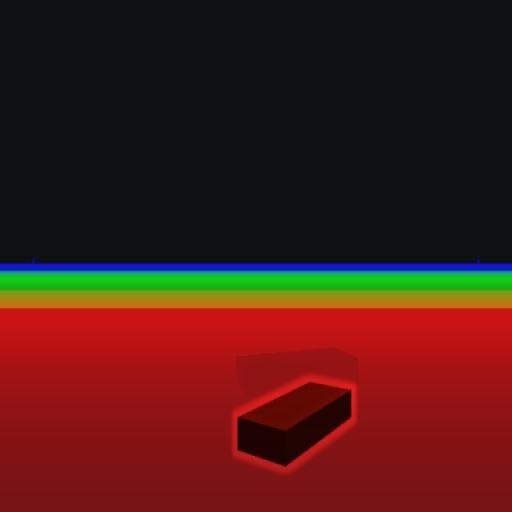debris_container: (234, 380, 354, 468)
